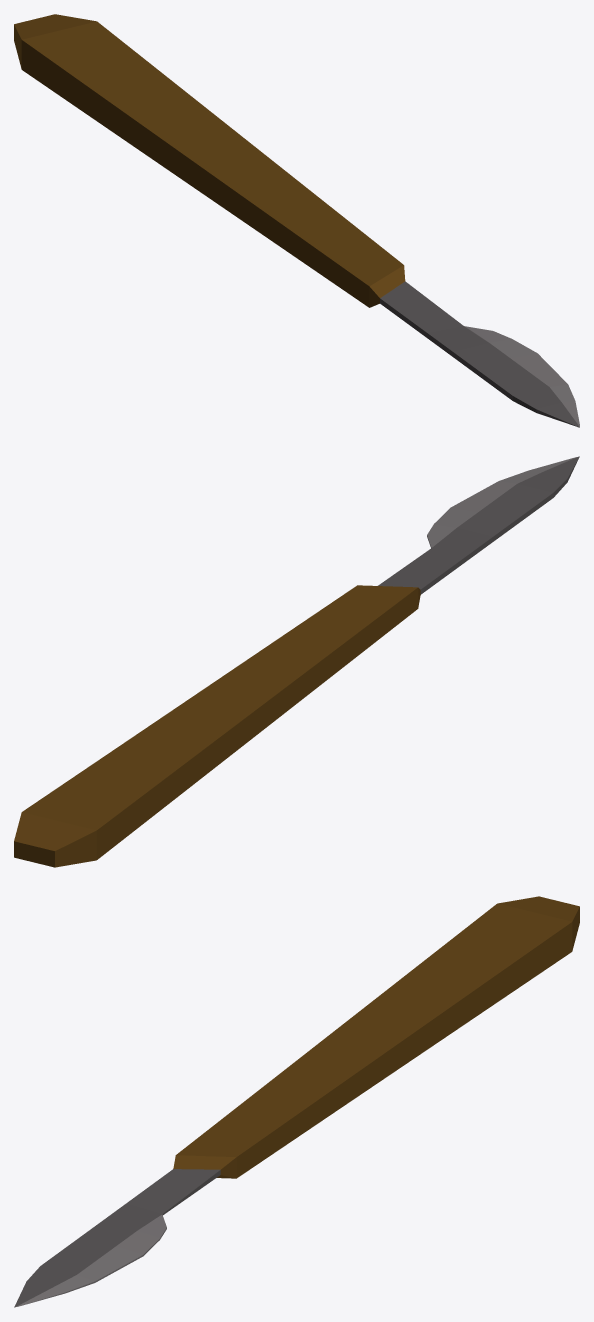
Rendered from Scalpel.fbx.
3 views of the same model, one above another, from view 1: azimuth 30°, elevation 25°; view 2: azimuth 150°, elevation 25°; view 3: azimuth 330°, elevation 25° (orthographic).
Visible parts, largest first — view 1: Scalpel; view 2: Scalpel; view 3: Scalpel.
Boxes of the visible parts, x1,y1,x2,y2 form: Scalpel: [14, 14, 579, 427]; Scalpel: [14, 456, 579, 867]; Scalpel: [14, 896, 579, 1307].
Size of the model in its own units: 1.89 by 0.6786 by 22.33.
